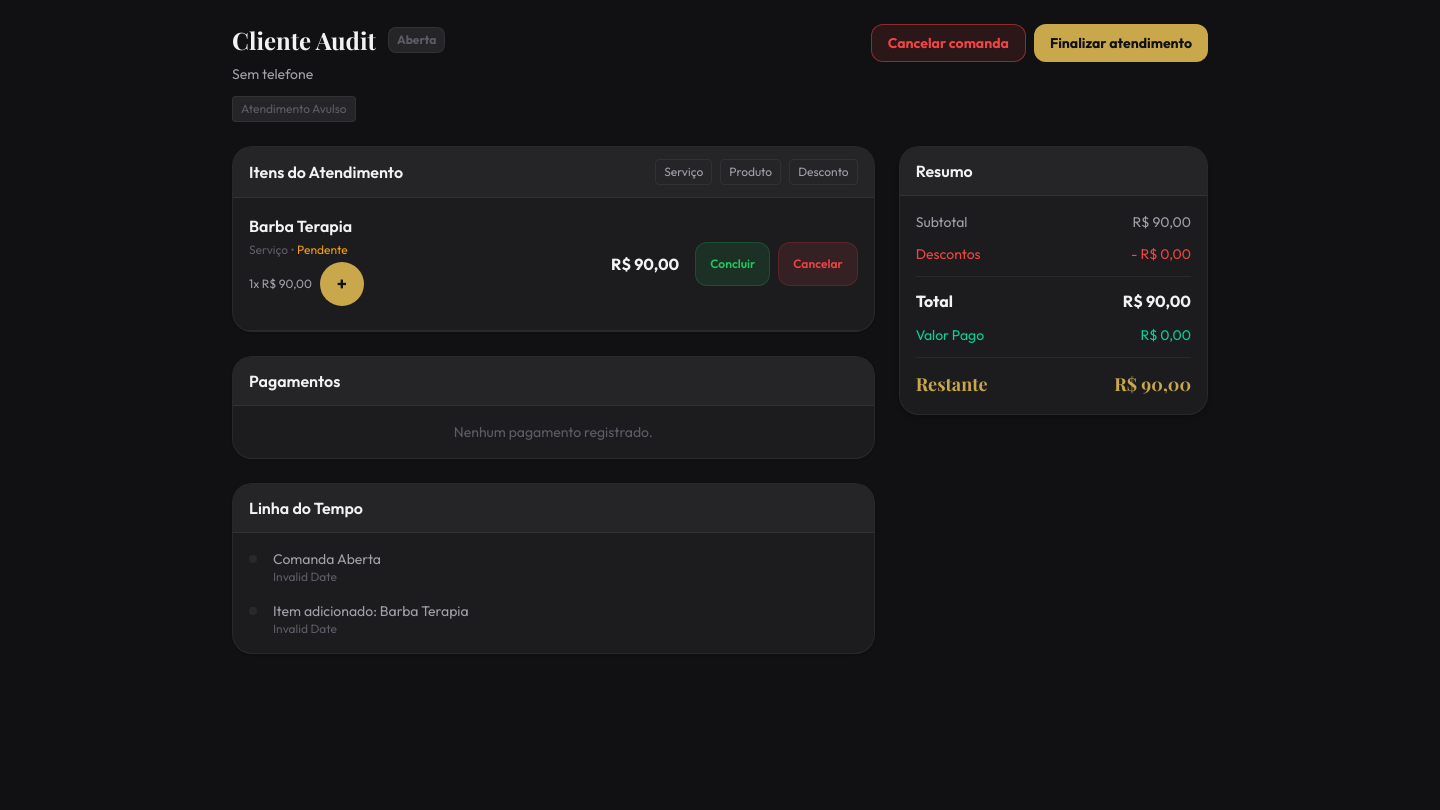
Scenario: UX1 Independent Review Fix Suite (TEMBARBER_UX1_INDEPENDENT_REVIEW_FIX) › UX1-REV-004 — Visibilidade e Rolagem de Erros de API › reposiciona a rolagem interna do modal para o topo e dá foco no resumo do erro ao receber erro da API
Abrir modal de pagamento
Click the button "Finalizar atendimento" at (1121, 43), box [1034,24,1208,62]
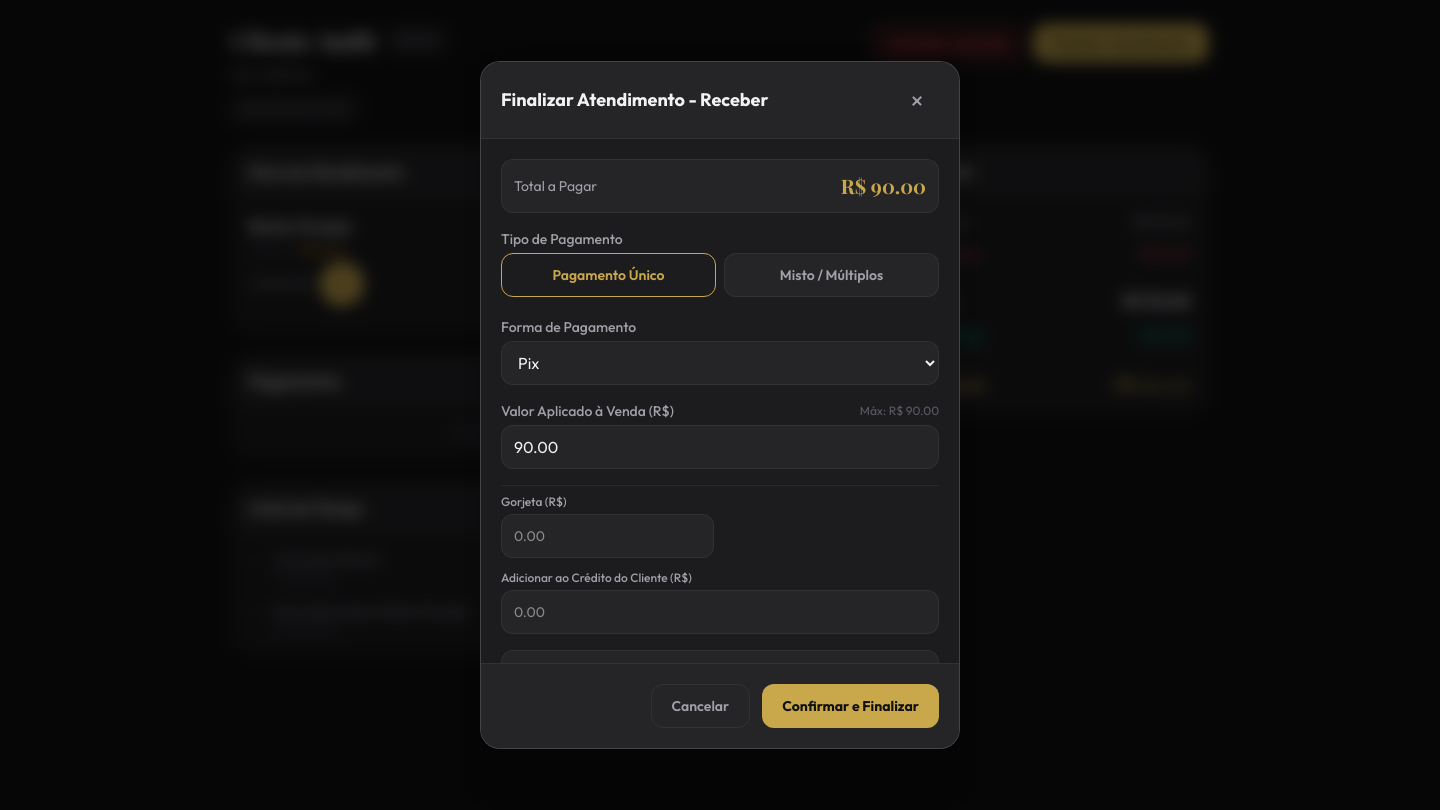
Result: the heading "Finalizar Atendimento - Receber" is shown at [501,86,776,114]
Submeter pagamento
Click the button "Confirmar e Finalizar" at (851, 706), box [762,684,939,728]
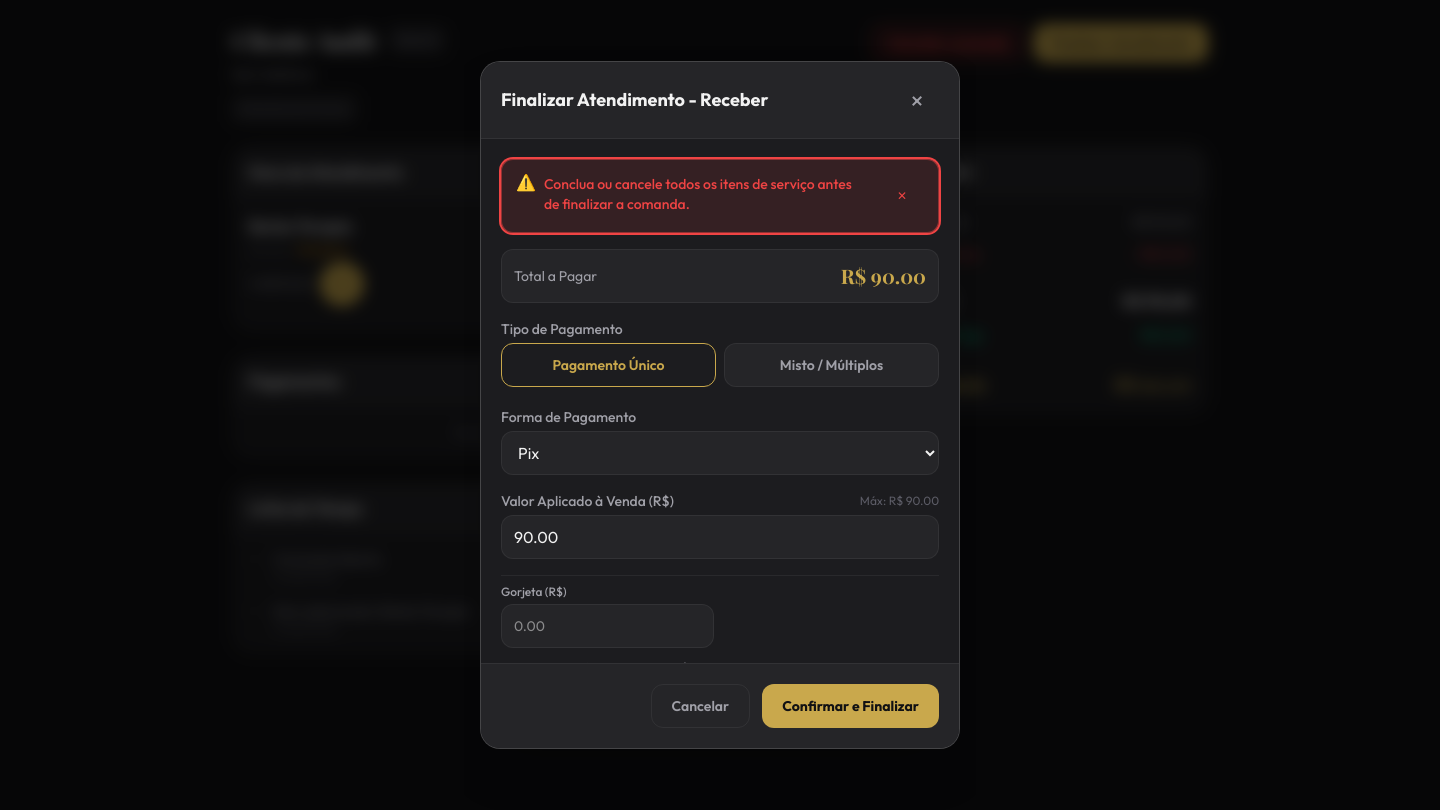
Result: the heading "Finalizar Atendimento - Receber" is shown at [501,86,776,114]
Result: the message is shown at [501,159,939,233]
Result: the message shows "Conclua ou cancele todos os itens de serviço antes de finalizar a comanda." at [544,175,852,213]
